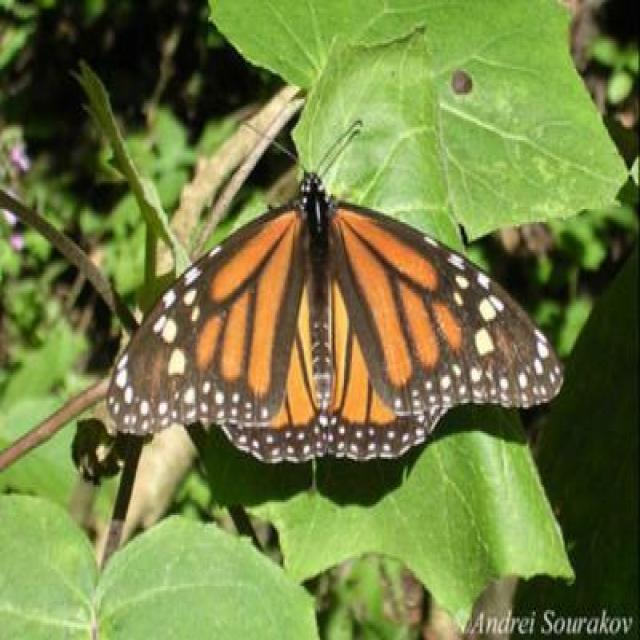antennae: (238, 114, 367, 180)
body: (297, 170, 345, 413)
insect: (108, 116, 564, 461)
wings: (318, 195, 565, 458), (108, 199, 324, 462)
